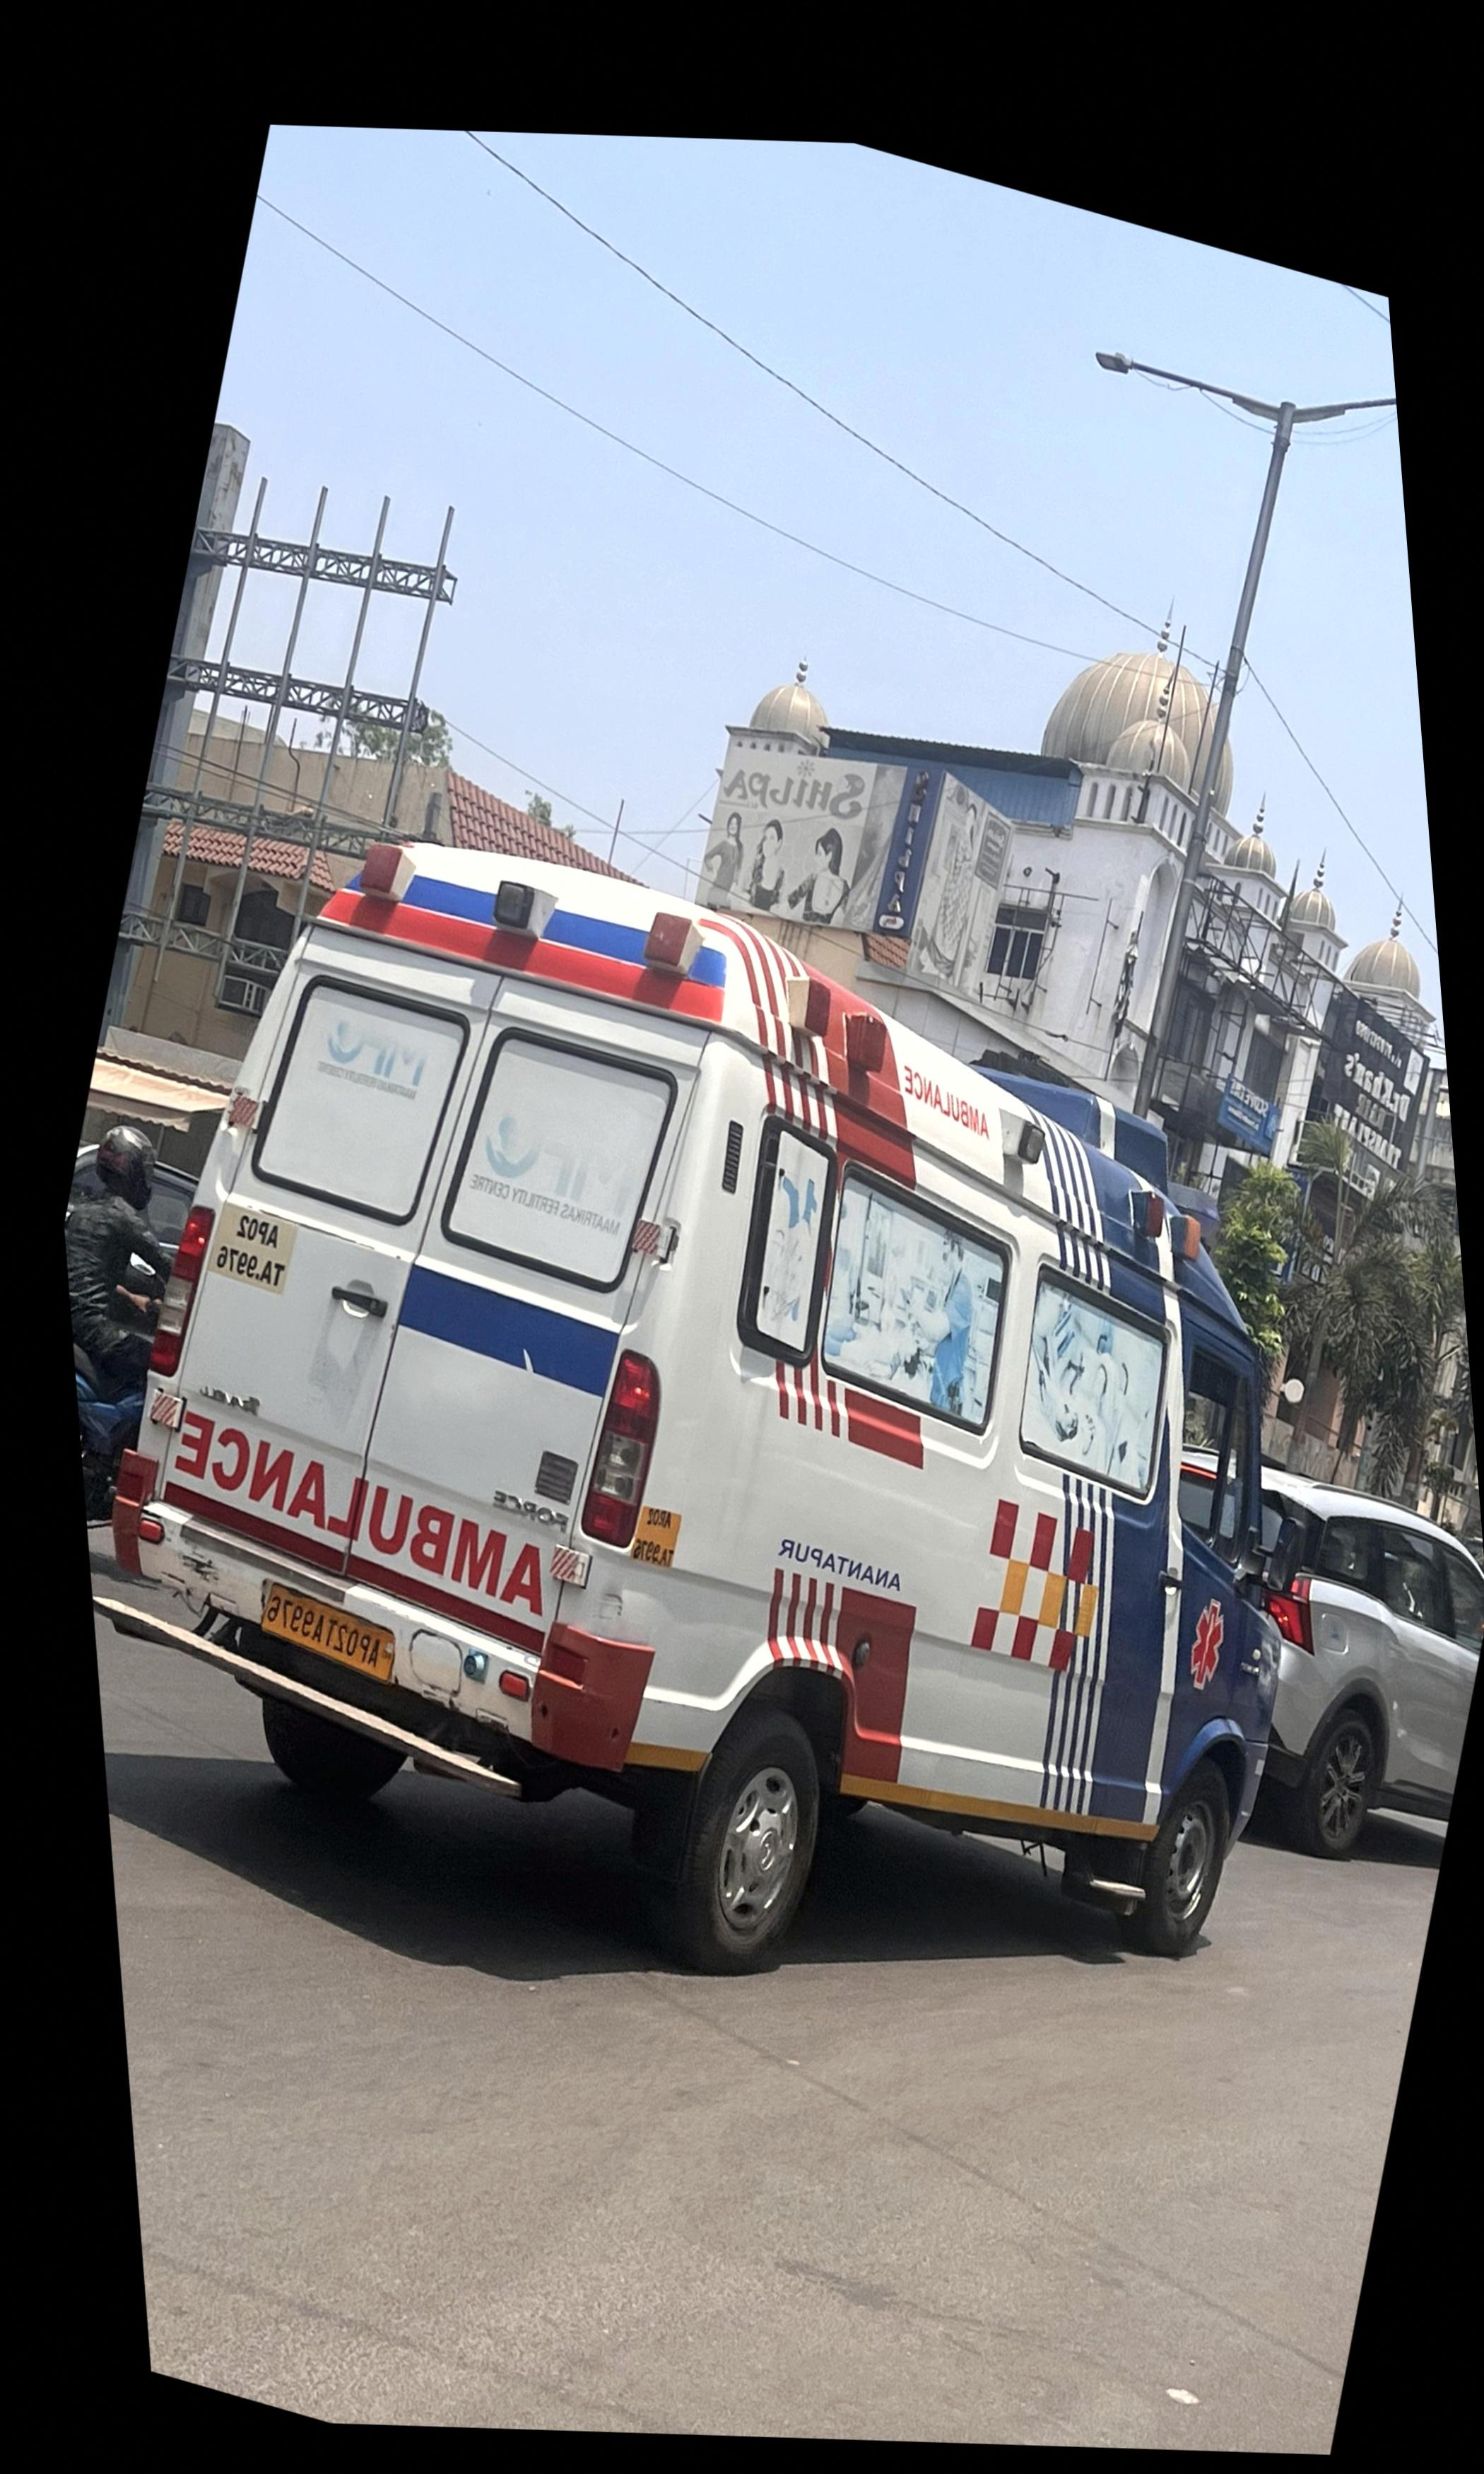ambulance: (106, 827, 1297, 1963)
